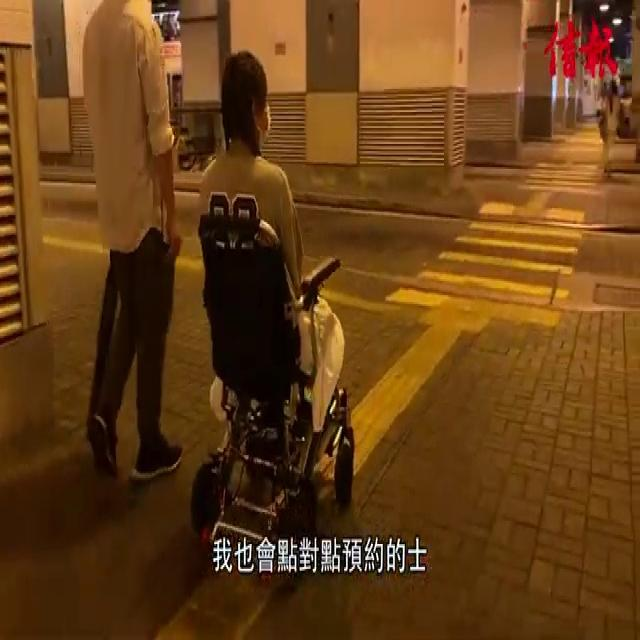wheelchairs: (182, 206, 366, 572)
